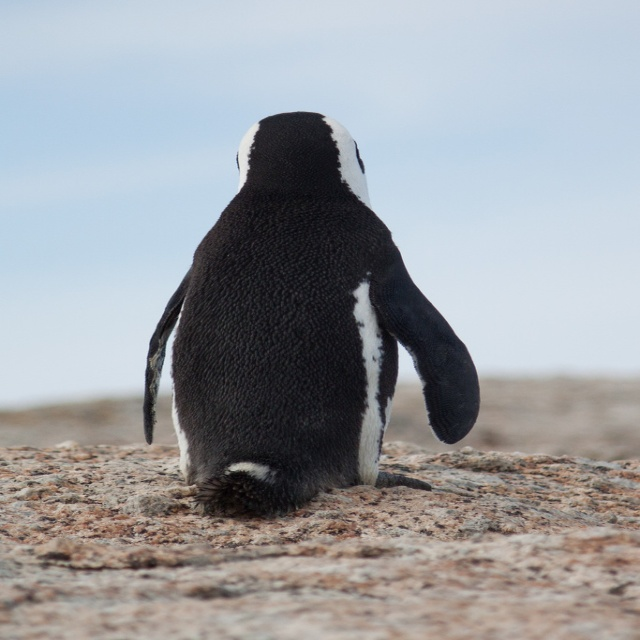Penguin: (137, 108, 484, 520)
